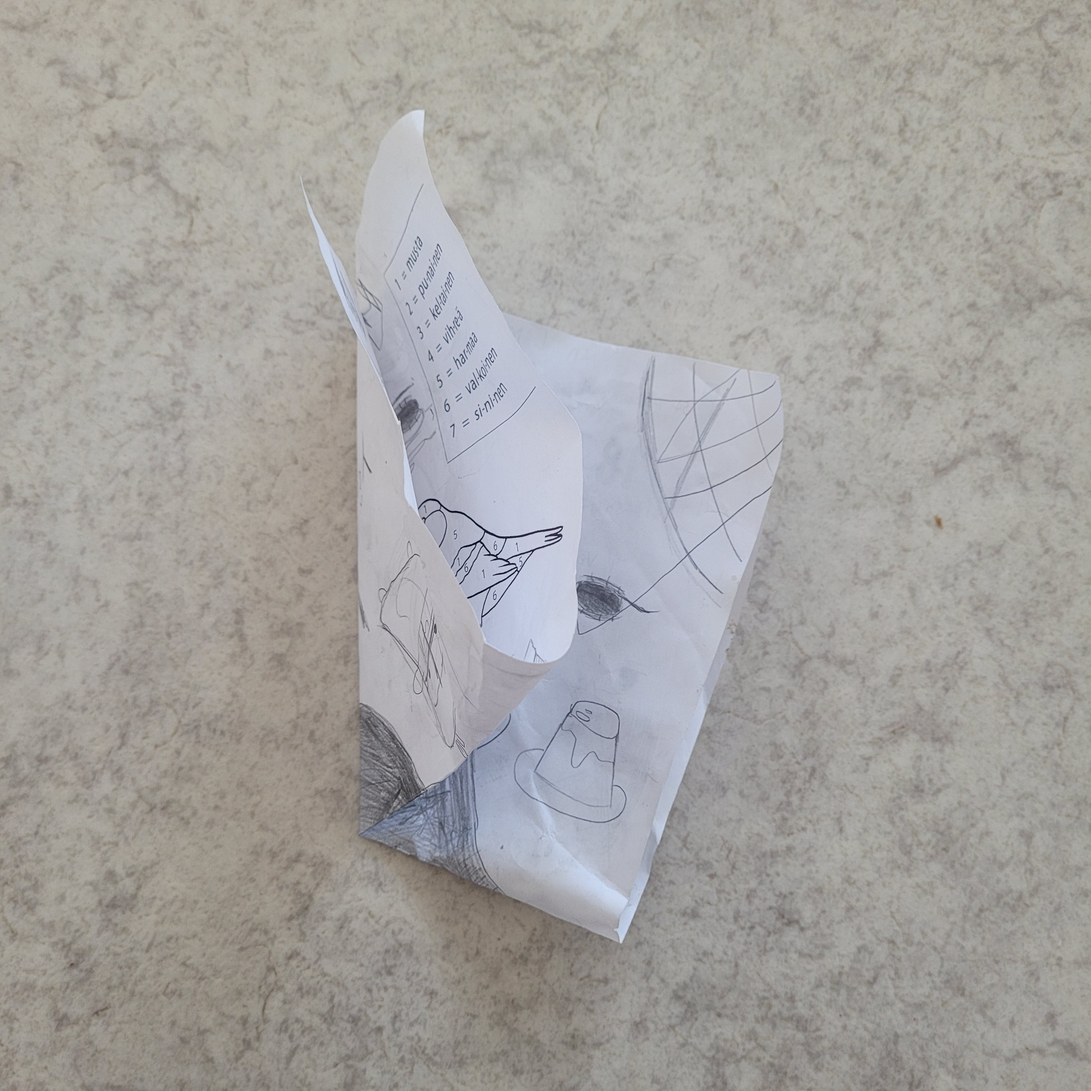paper: (295, 105, 791, 952)
